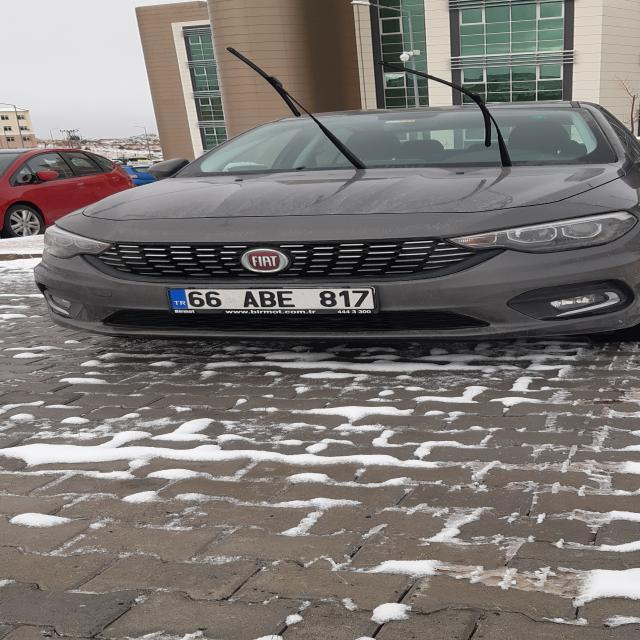license_plate: (167, 288, 374, 310)
